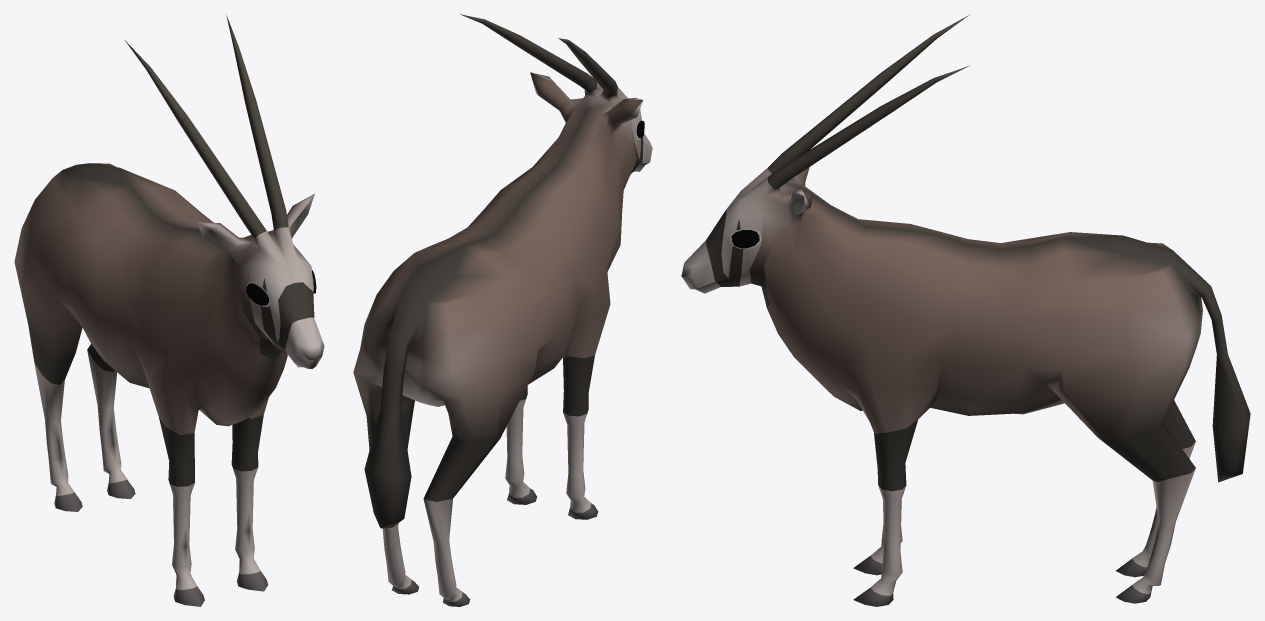
File: animals-animals-gemsbok_v1.glb
The picture shows the model from 3 angles, left to right: view 1: azimuth 30°, elevation 25°; view 2: azimuth 150°, elevation 25°; view 3: azimuth 270°, elevation 25°; orthographic projection. The views are drawn at different scales.
Parts seen in each view (by area): view 1: Gemsbok.001; view 2: Gemsbok.001; view 3: Gemsbok.001.
Boxes of the visible parts, x1,y1,x2,y2 form: Gemsbok.001: (14, 15, 324, 606); Gemsbok.001: (353, 14, 652, 606); Gemsbok.001: (681, 14, 1250, 606).
Bounding box in the file's own units: 0.5707 × 1.87 × 1.77.
